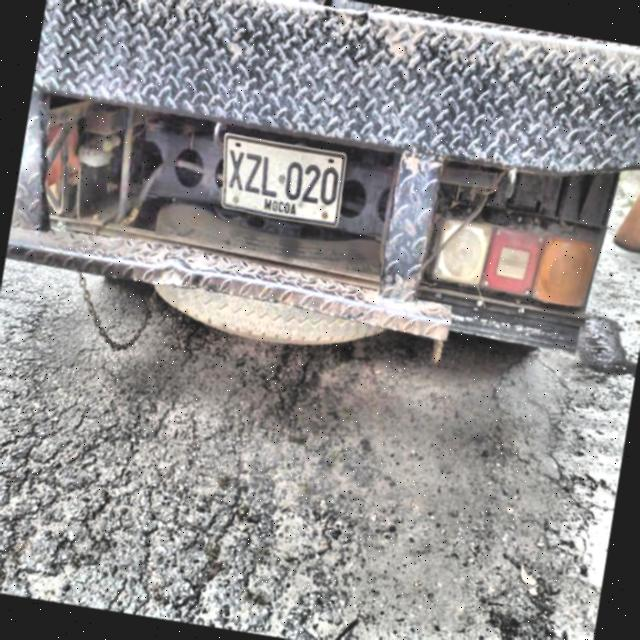plate: (221, 133, 347, 228)
